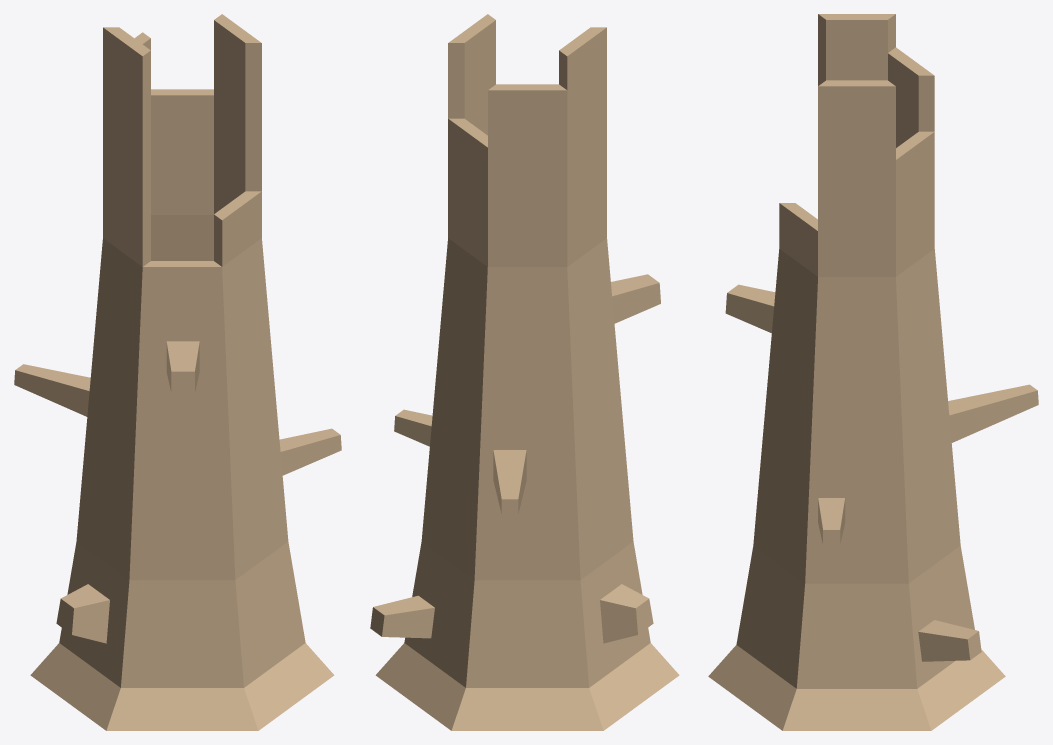
File: trunkLong.glb
3 renders of one model, left to right at view 1: azimuth 30°, elevation 25°; view 2: azimuth 150°, elevation 25°; view 3: azimuth 270°, elevation 25°, orthographic. The views are drawn at different scales.
Visible parts, largest first — view 1: trunkLong(Clone); view 2: trunkLong(Clone); view 3: trunkLong(Clone).
Boxes of the visible parts, x1,y1,x2,y2 form: trunkLong(Clone): (14, 14, 341, 730); trunkLong(Clone): (370, 14, 679, 730); trunkLong(Clone): (708, 14, 1038, 730).
Bounding box in the file's own units: 0.5442 × 1.29 × 0.6118.
